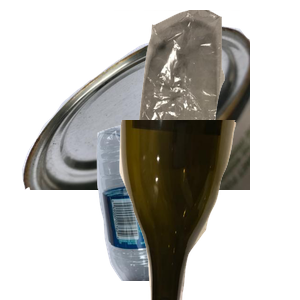glass: (117, 120, 300, 300)
metal: (19, 22, 259, 202)
plastic: (94, 120, 267, 300)
trash: (114, 10, 300, 190)
